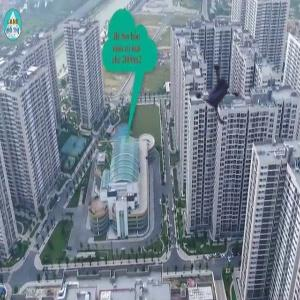drone: (182, 54, 248, 120)
